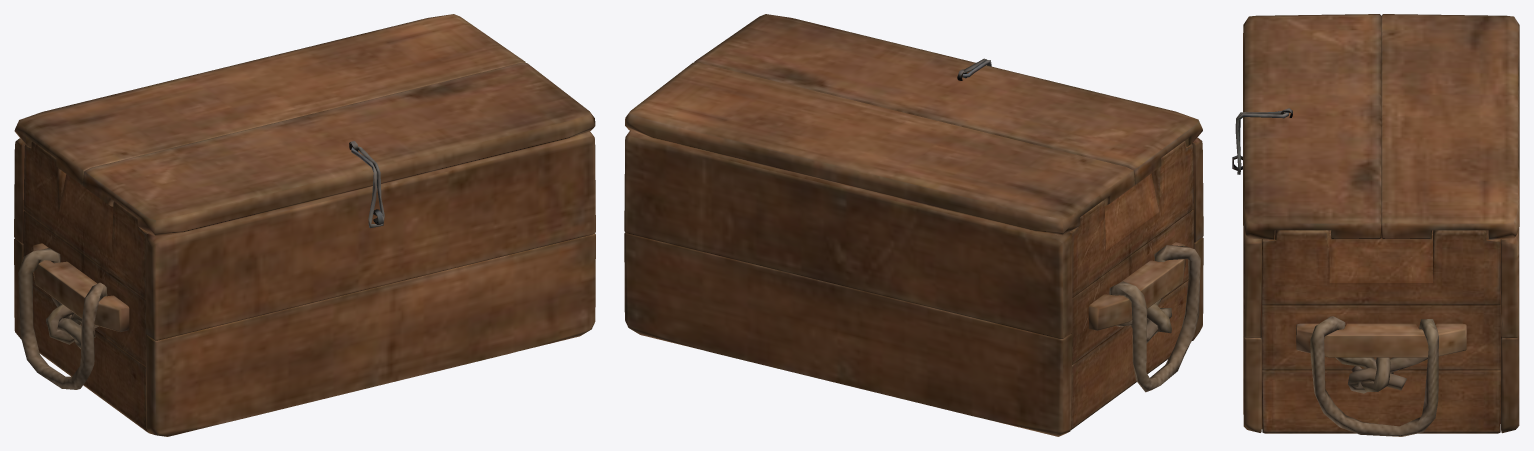
Rendered from wooden_crate_01.lod1.glb.
3 renders of one model, left to right at view 1: azimuth 30°, elevation 25°; view 2: azimuth 150°, elevation 25°; view 3: azimuth 270°, elevation 25°, orthographic. The views are drawn at different scales.
Parts seen in each view (by area): view 1: wooden_crate_01, wooden_crate_01_lid, wooden_crate_01_latch; view 2: wooden_crate_01, wooden_crate_01_lid; view 3: wooden_crate_01_lid, wooden_crate_01, wooden_crate_01_latch.
Boxes of the visible parts, x1,y1,x2,y2 form: wooden_crate_01: [14, 131, 595, 436]; wooden_crate_01_lid: [14, 14, 595, 236]; wooden_crate_01_latch: [351, 146, 384, 228]; wooden_crate_01: [624, 130, 1203, 436]; wooden_crate_01_lid: [625, 14, 1202, 235]; wooden_crate_01_lid: [1243, 14, 1519, 239]; wooden_crate_01: [1232, 155, 1519, 436]; wooden_crate_01_latch: [1235, 111, 1288, 174].
Size of the model in its own units: 0.8245 by 0.3495 by 0.4077.
Materials: 1 (1 with a texture image).
